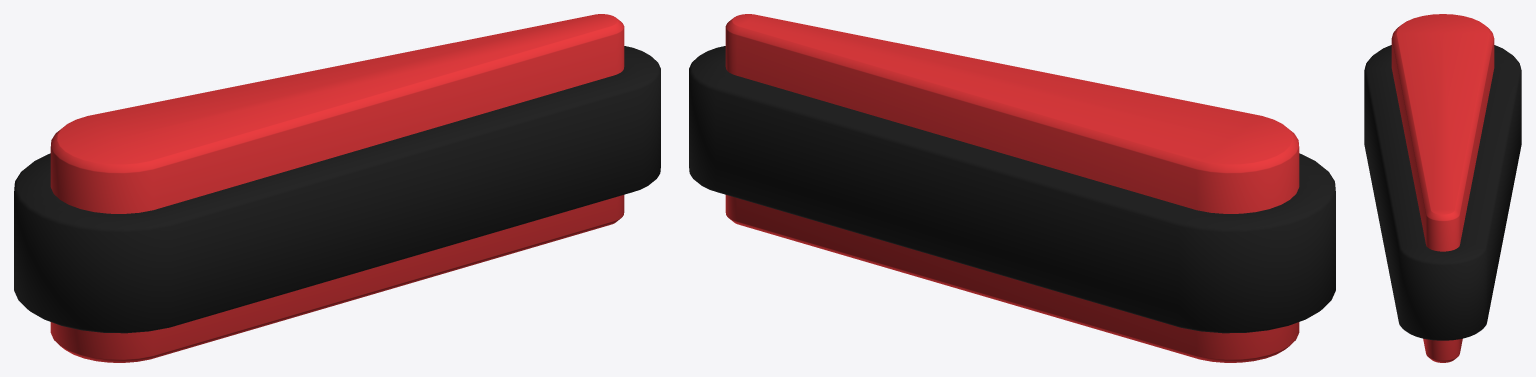
Rendered from Flipper_01.fbx.
The picture shows the model from 3 angles, left to right: view 1: azimuth 30°, elevation 25°; view 2: azimuth 150°, elevation 25°; view 3: azimuth 270°, elevation 25°; orthographic projection. The views are drawn at different scales.
Parts seen in each view (by area): view 1: FlipperRubber, FlipperBody; view 2: FlipperRubber, FlipperBody; view 3: FlipperRubber, FlipperBody.
Part boxes in pixels (bbox=[...]): FlipperRubber: bbox=[14, 46, 660, 333]; FlipperBody: bbox=[50, 14, 624, 362]; FlipperRubber: bbox=[689, 46, 1335, 333]; FlipperBody: bbox=[725, 14, 1299, 362]; FlipperRubber: bbox=[1364, 45, 1521, 340]; FlipperBody: bbox=[1391, 14, 1494, 362].
Bounding box in the file's own units: 7.91 × 2.4 × 2.3.
